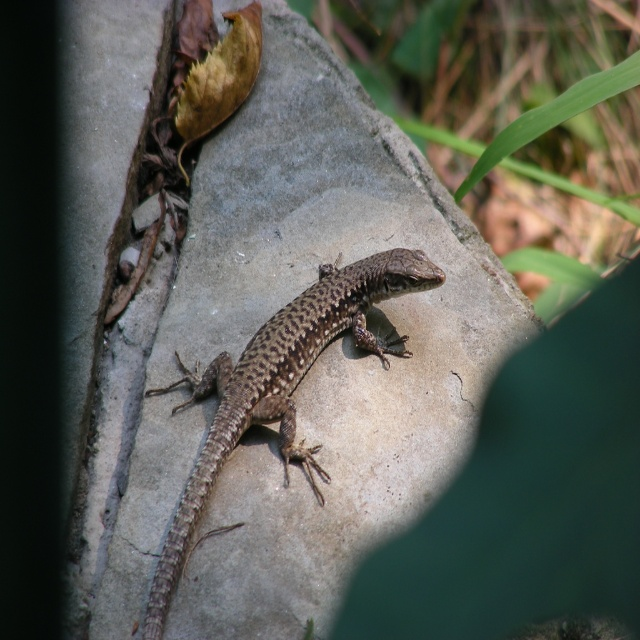Lizard: (146, 251, 443, 637)
